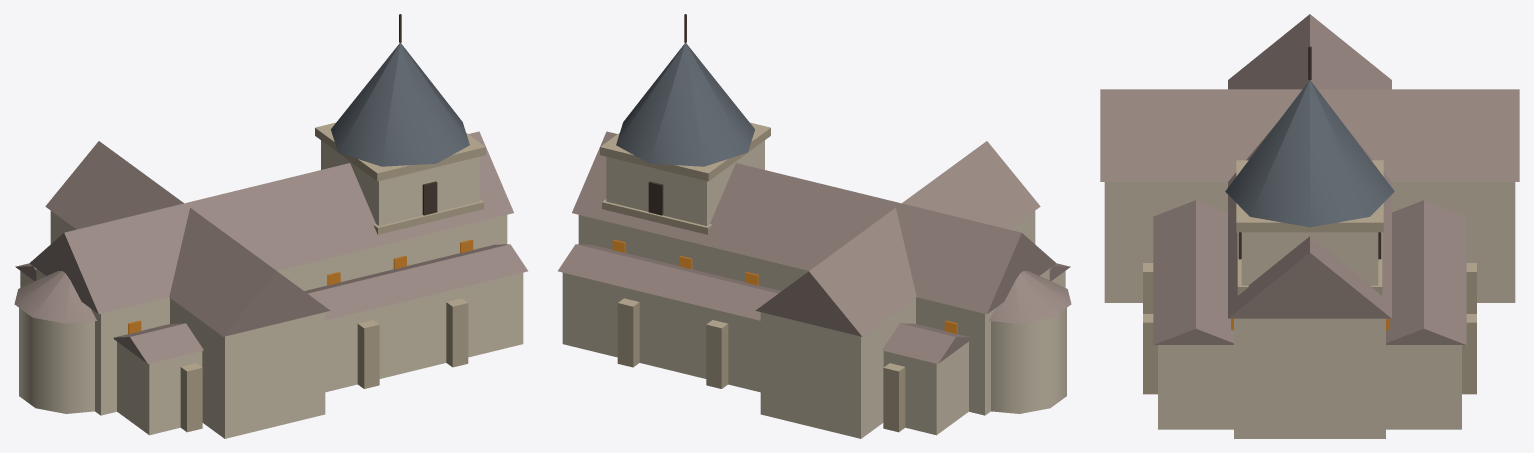
File: eglise.glb
3 views of the same model, side by side, from view 1: azimuth 30°, elevation 25°; view 2: azimuth 150°, elevation 25°; view 3: azimuth 270°, elevation 25° (orthographic). The views are drawn at different scales.
Parts seen in each view (by area): view 1: Église; view 2: Église; view 3: Église.
Part boxes in pixels (box(x1,y1,x2,y2)): Église: box(14, 14, 527, 438); Église: box(558, 14, 1071, 438); Église: box(1100, 14, 1519, 438).
Size of the model in its own units: 41.19 by 25.6 by 27.88.
